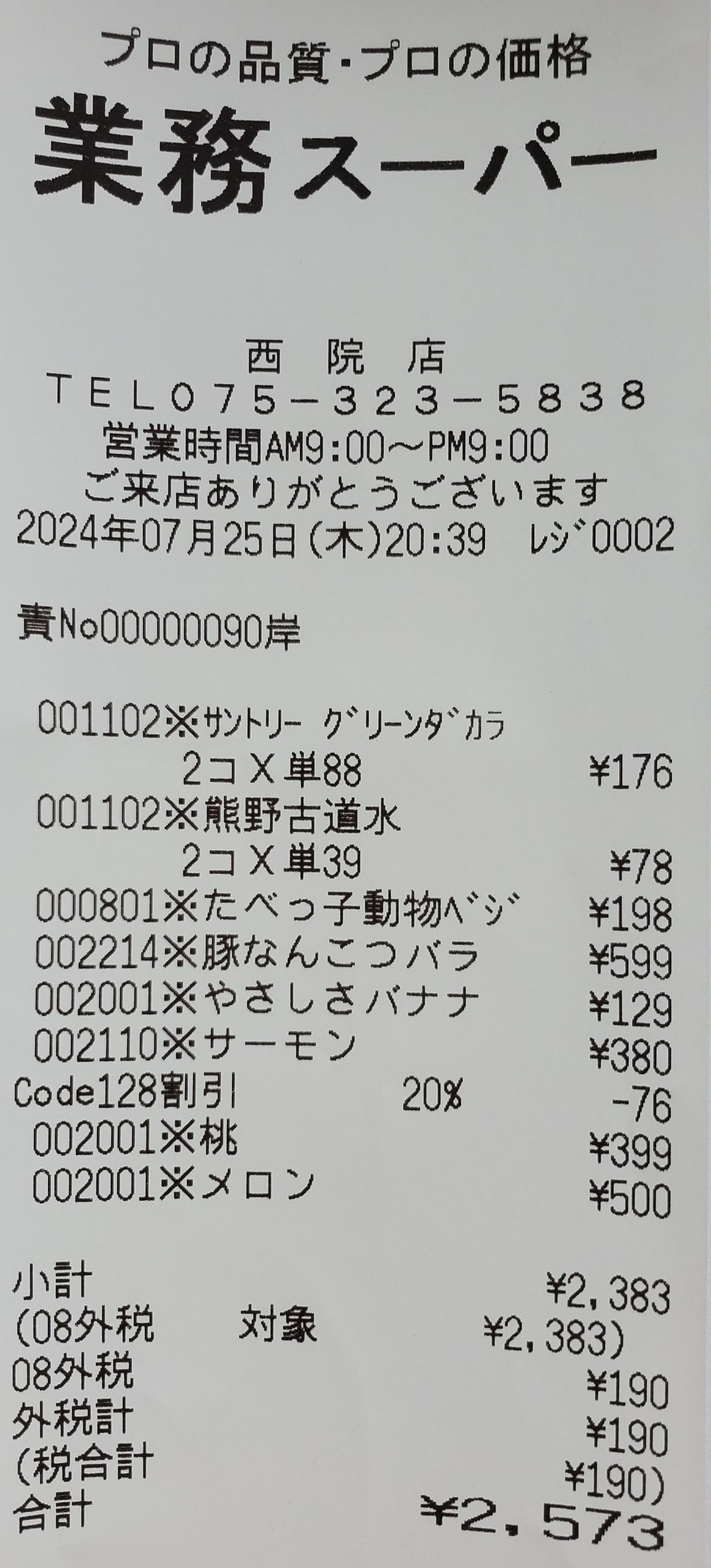TEL: (163, 370, 677, 419)
date: (13, 512, 306, 566)
total: (454, 1494, 684, 1568)
